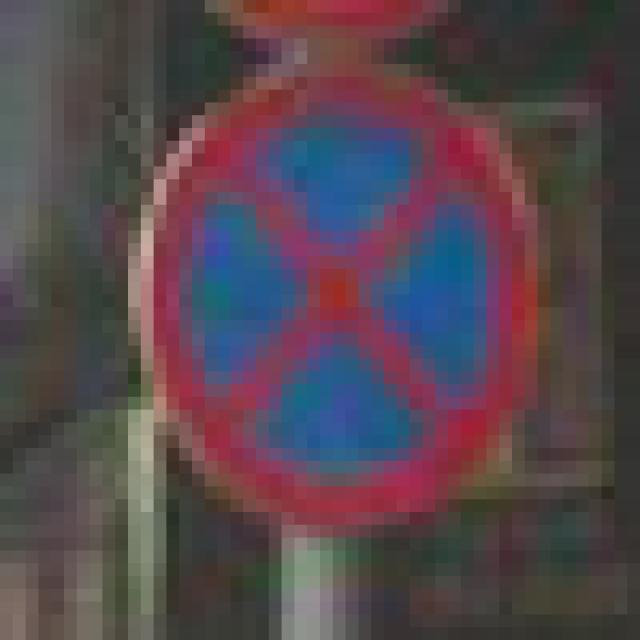no_parking: (115, 38, 538, 512)
